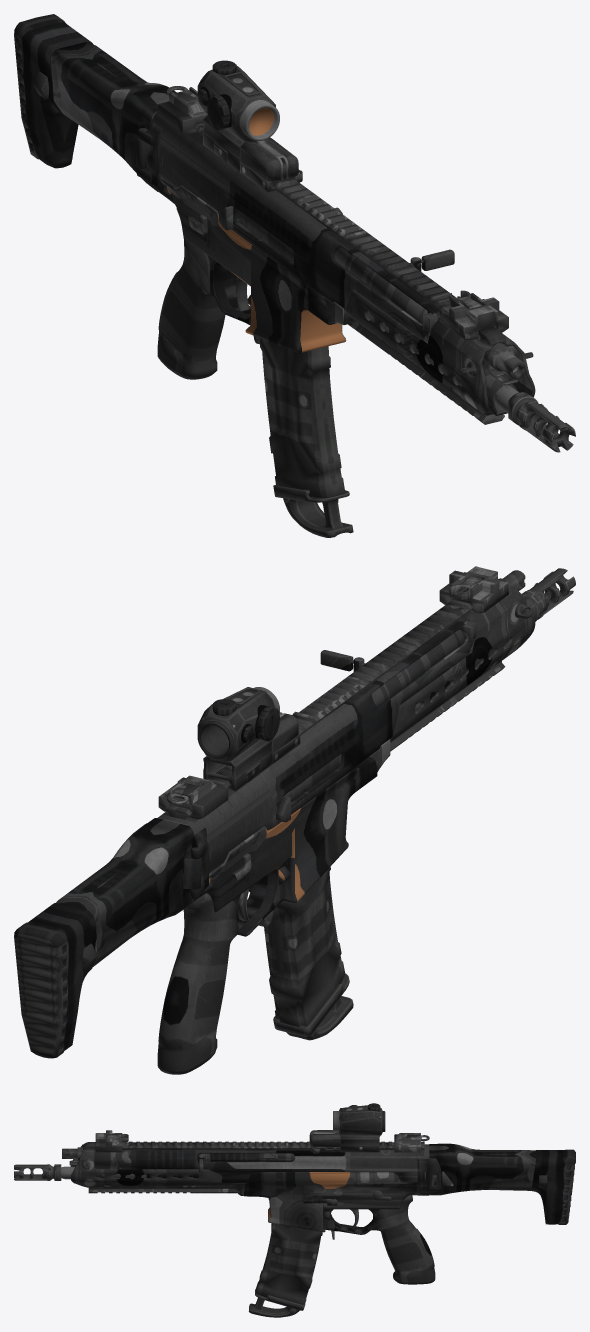
File: Weapons_KH43_LOD0.glb
3 renders of one model, top to bottom at view 1: azimuth 30°, elevation 25°; view 2: azimuth 150°, elevation 25°; view 3: azimuth 270°, elevation 25°, orthographic. The views are drawn at different scales.
Visible parts, largest first — view 1: Hoodie; view 2: Hoodie; view 3: Hoodie.
Part boxes in pixels (x1,y1,x2,y2): Hoodie: (14, 14, 575, 537); Hoodie: (14, 566, 575, 1074); Hoodie: (14, 1103, 575, 1317).
Bounding box in the file's own units: 0.0827 × 0.3055 × 0.7416.
1 material, 1 textured.
